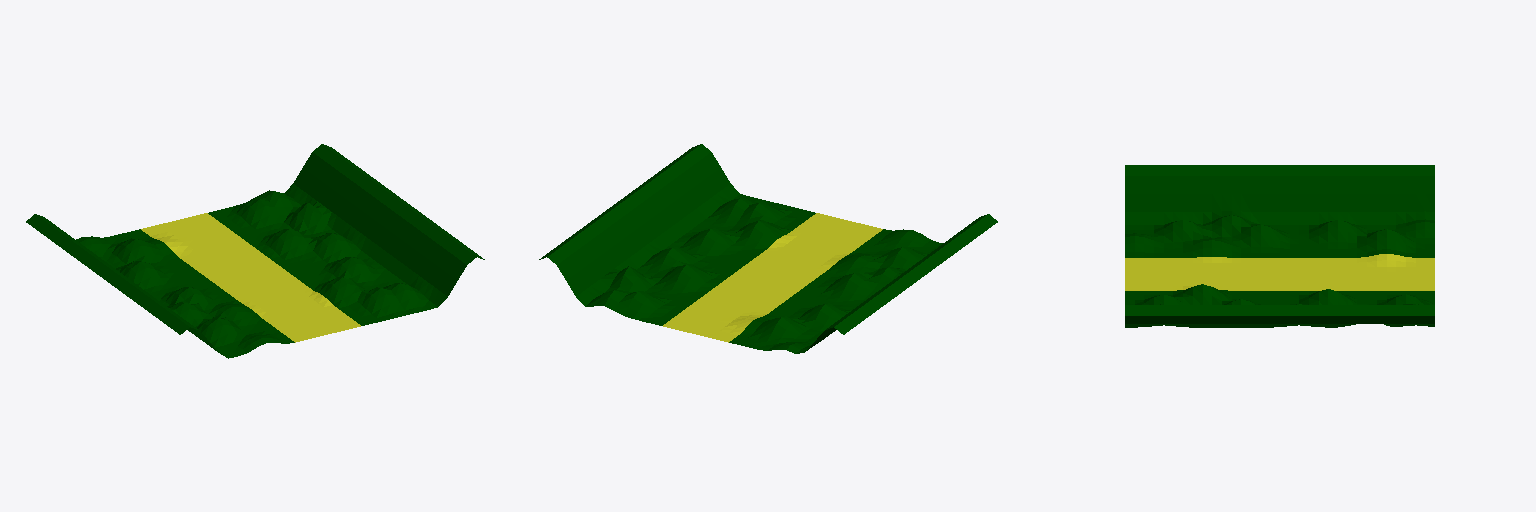
Rendered from ground.obj.
3 renders of one model, left to right at view 1: azimuth 30°, elevation 25°; view 2: azimuth 150°, elevation 25°; view 3: azimuth 270°, elevation 25°, orthographic.
Visible parts, largest first — view 1: Plane; view 2: Plane; view 3: Plane.
Boxes of the visible parts, box(x1,y1,x2,y2) form: Plane: box(26, 144, 484, 358); Plane: box(539, 144, 997, 353); Plane: box(1125, 165, 1434, 327).
Size of the model in its own units: 3.52 by 0.4515 by 3.09.